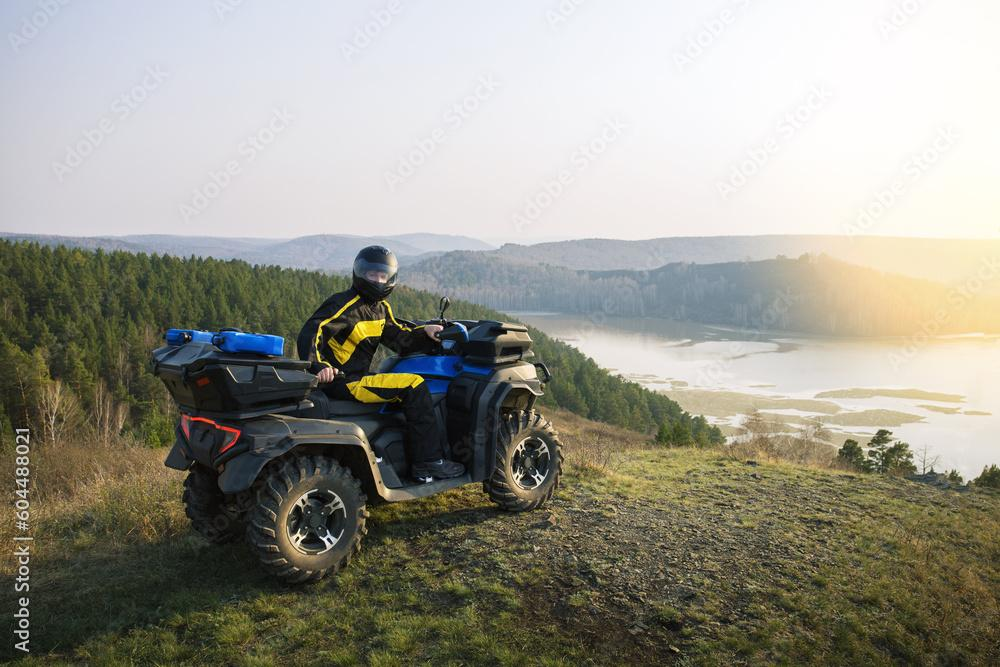helmet: (352, 244, 399, 301)
